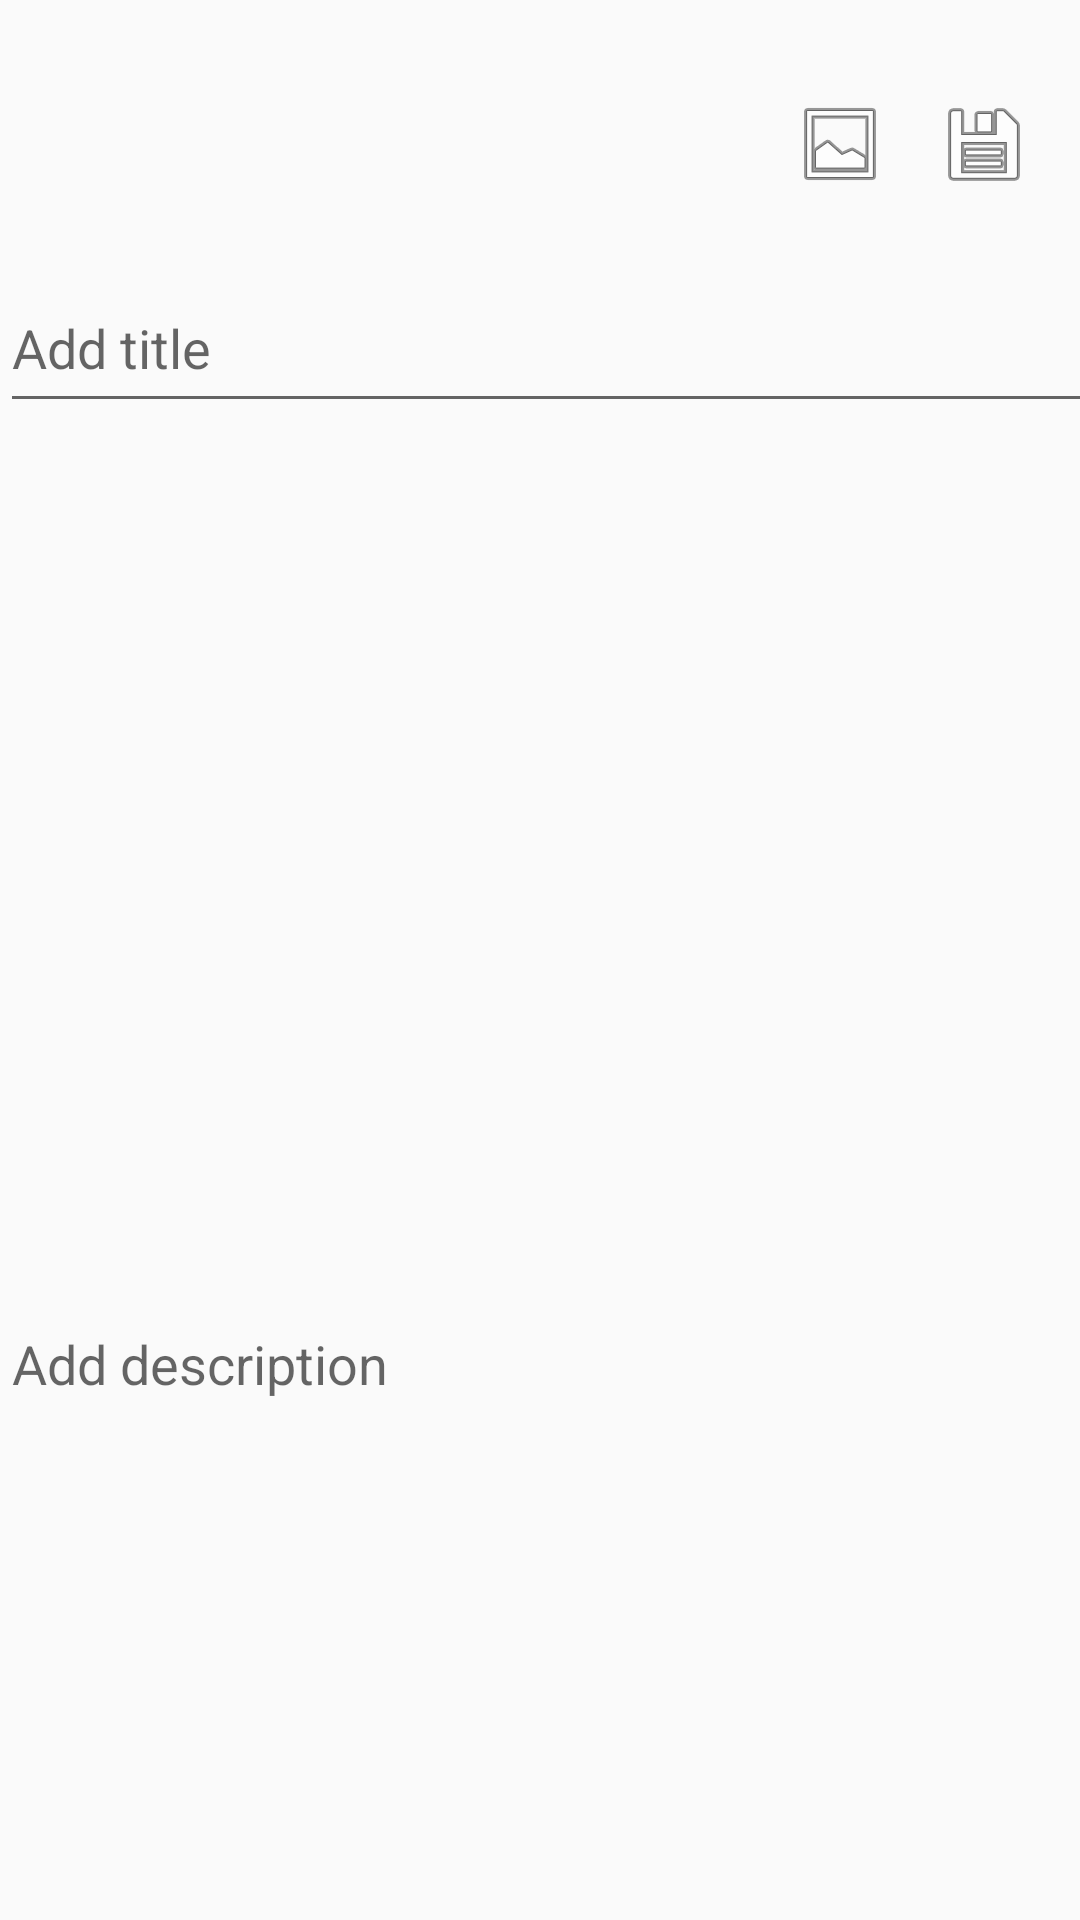

Locate icon controls on the screen. Image size 1080px x 1920px, boxes as (x1, y1, x2, y2).
gallery: (804, 108, 876, 180)
save: (948, 108, 1020, 181)
